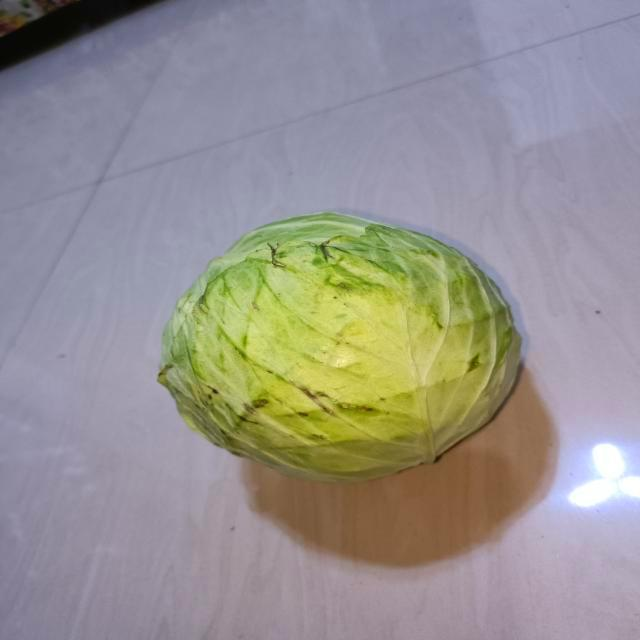cabbage: (153, 208, 528, 488)
